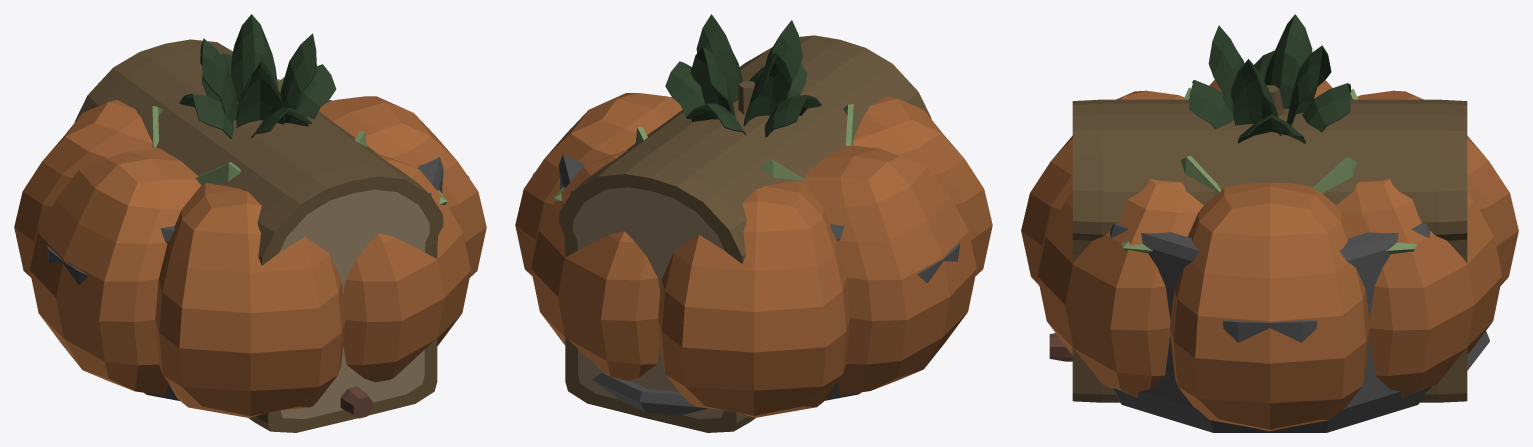
The model's file is food.glb.
3 views of the same model, side by side, from view 1: azimuth 30°, elevation 25°; view 2: azimuth 150°, elevation 25°; view 3: azimuth 270°, elevation 25° (orthographic). The views are drawn at different scales.
Parts seen in each view (by area): view 1: Pumpkin_mesh0, Bread_mesh0, Carrot_mesh0, Turnip_mesh0, Cooking_Pot_mesh0, Lettuce_mesh0, Frying_Pan_mesh0; view 2: Pumpkin_mesh0, Bread_mesh0, Carrot_mesh0, Turnip_mesh0, Frying_Pan_mesh0, Cooking_Pot_mesh0, Lettuce_mesh0; view 3: Pumpkin_mesh0, Bread_mesh0, Cooking_Pot_mesh0, Carrot_mesh0, Turnip_mesh0, Lettuce_mesh0, Frying_Pan_mesh0.
Part boxes in pixels (x1,y1,x2,y2): Pumpkin_mesh0: (14,79,486,417); Bread_mesh0: (74,39,443,432); Carrot_mesh0: (200,14,317,127); Turnip_mesh0: (179,53,336,138); Cooking_Pot_mesh0: (46,100,469,400); Lettuce_mesh0: (151,77,447,204); Frying_Pan_mesh0: (340,386,372,418); Pumpkin_mesh0: (515,81,992,417); Bread_mesh0: (559,35,931,432); Carrot_mesh0: (690,14,802,126); Turnip_mesh0: (665,61,821,137); Frying_Pan_mesh0: (592,373,708,415); Cooking_Pot_mesh0: (532,97,959,400); Lettuce_mesh0: (554,104,855,201); Pumpkin_mesh0: (1021,79,1518,431); Bread_mesh0: (1072,99,1467,402); Cooking_Pot_mesh0: (1110,223,1429,432); Carrot_mesh0: (1208,14,1331,135); Turnip_mesh0: (1189,50,1351,143); Lettuce_mesh0: (1121,87,1416,253); Frying_Pan_mesh0: (1049,331,1489,391).
Size of the model in its own units: 0.3743 by 0.2779 by 0.3781.
2 materials, 2 textured.
